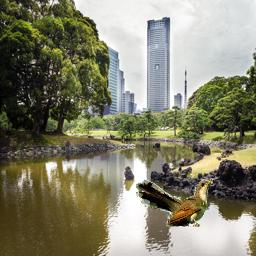Cuckoo: (137, 179, 214, 227)
